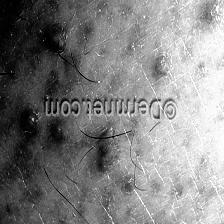Unclassified: (11, 118, 138, 188), (42, 33, 68, 62), (202, 0, 224, 32), (155, 56, 178, 79)
